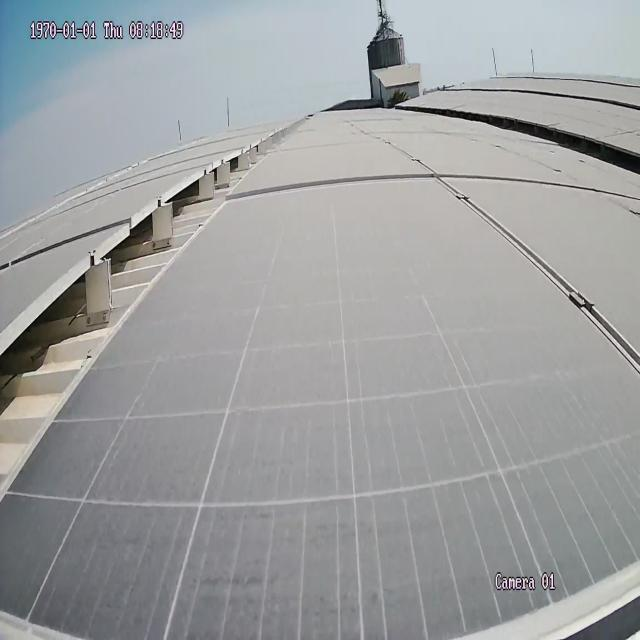interior panel: (235, 168, 640, 373)
outher panel: (7, 116, 307, 505), (427, 109, 640, 177)
